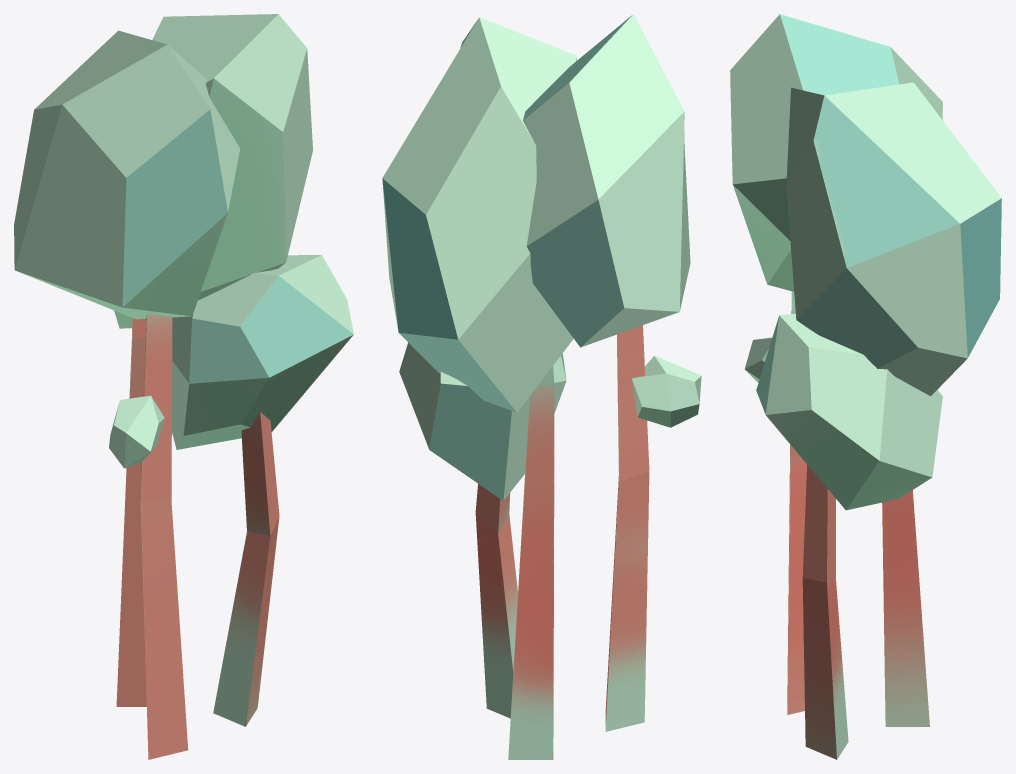
File: arvore-alta.fbx
The picture shows the model from 3 angles, left to right: view 1: azimuth 30°, elevation 25°; view 2: azimuth 150°, elevation 25°; view 3: azimuth 270°, elevation 25°; orthographic projection. The views are drawn at different scales.
Visible parts, largest first — view 1: arvore-alta; view 2: arvore-alta; view 3: arvore-alta.
Boxes of the visible parts, x1=… form: arvore-alta: x1=14, y1=14, x2=353, y2=759; arvore-alta: x1=382, y1=14, x2=701, y2=759; arvore-alta: x1=730, y1=14, x2=1001, y2=759.
Bounding box in the file's own units: 412 × 950 × 339.
1 material, 1 textured.
